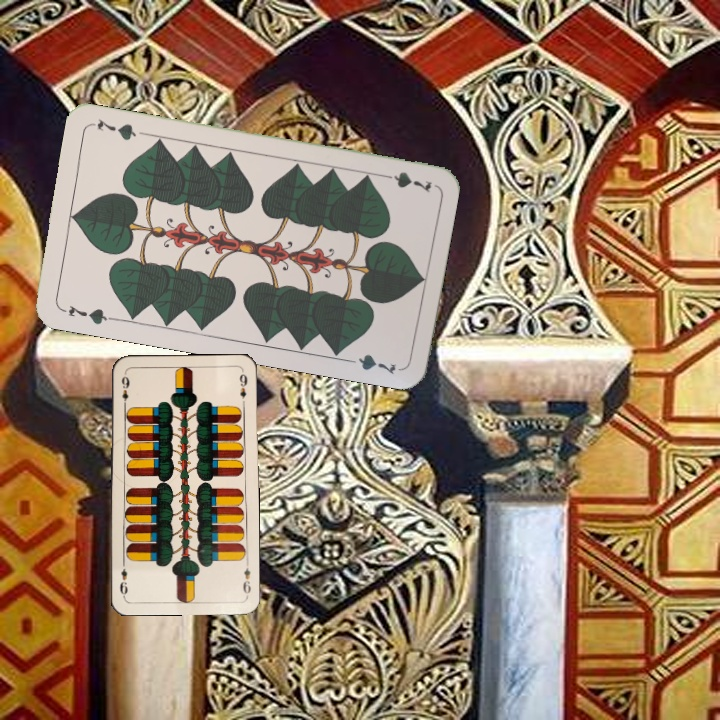E9: (239, 558, 254, 598), (118, 372, 132, 410)
G7: (376, 167, 435, 195), (57, 301, 116, 327)
